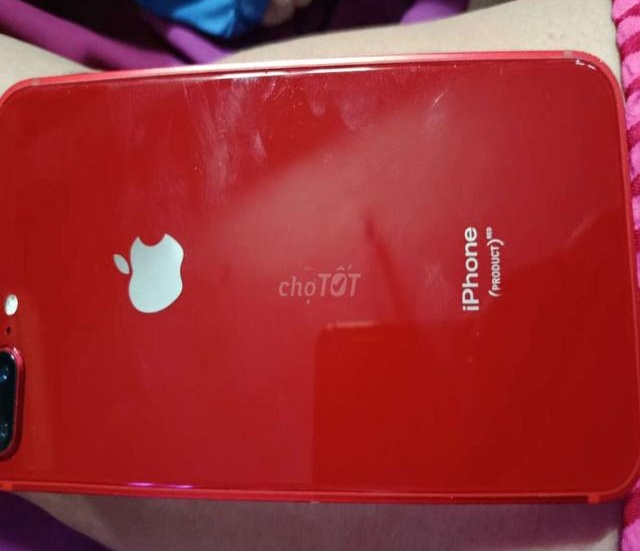scratch: (179, 58, 612, 202), (1, 333, 39, 374), (470, 327, 490, 351), (58, 84, 78, 106), (178, 250, 198, 269), (93, 193, 111, 212), (148, 171, 163, 188), (104, 257, 115, 273), (80, 76, 89, 90)
